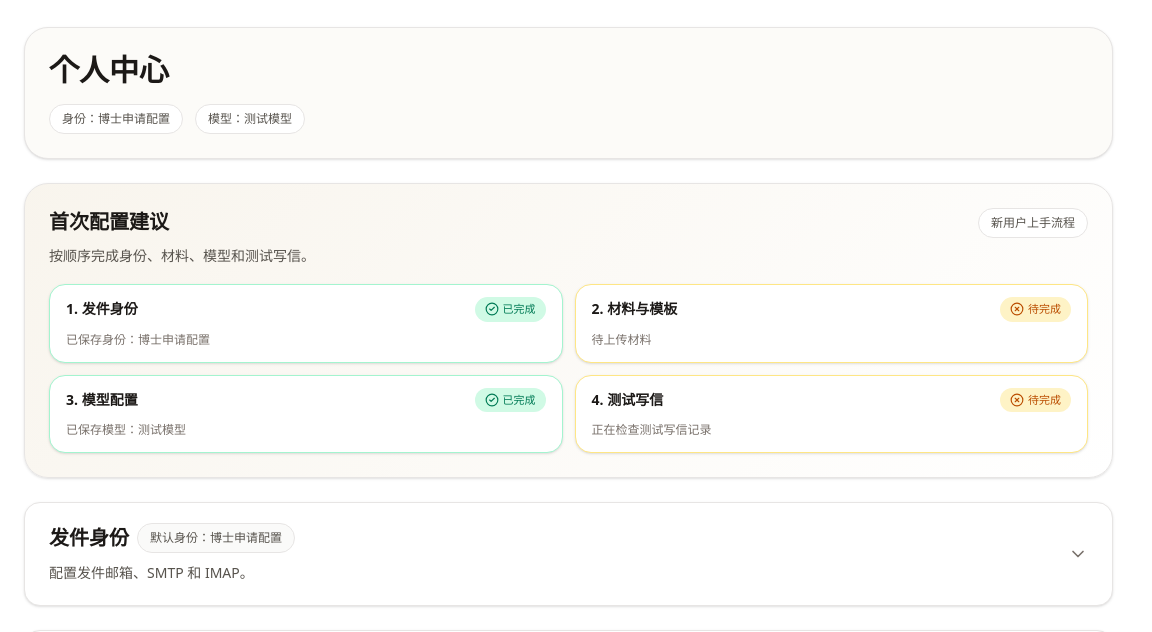
Scenario: ProfilePage onboarding › shows separate profile name and sender name fields
The image size is (1152, 632).
Click the button "发件身份 默认身份：博士申请配置 配置发件邮箱、SMTP 和 IMAP。" at (89, 538), box [25, 503, 1112, 605]
(page scrolled)
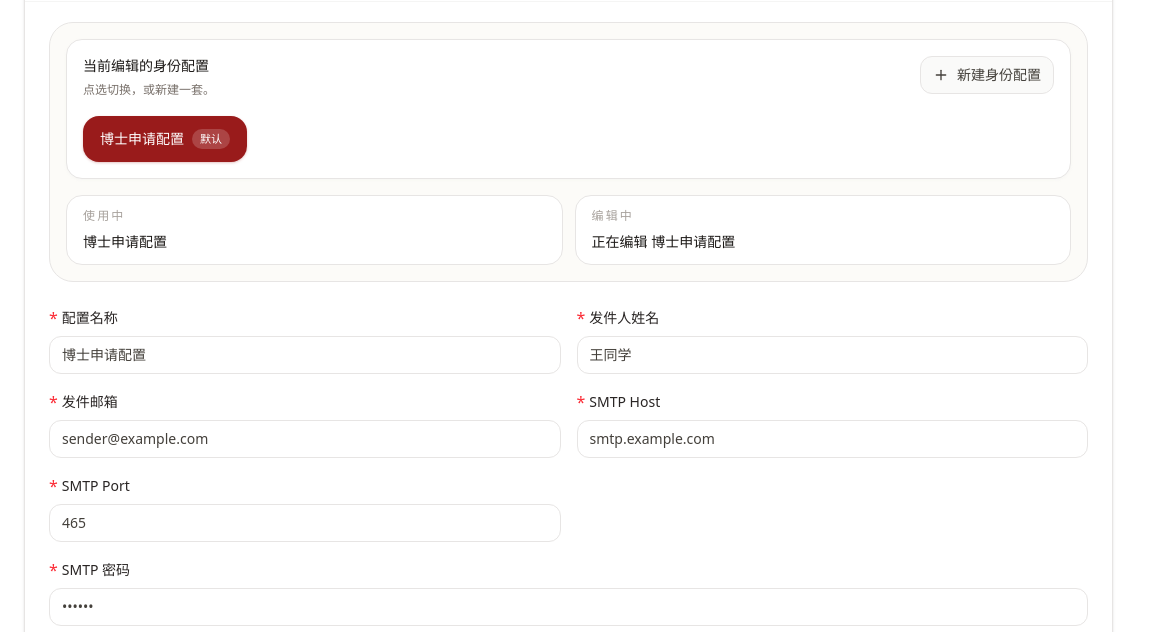
Now the field labelled "配置名称" holds "博士申请配置", box [49, 336, 560, 374]
Now the field labelled "发件人姓名" holds "王同学", box [576, 336, 1088, 374]
